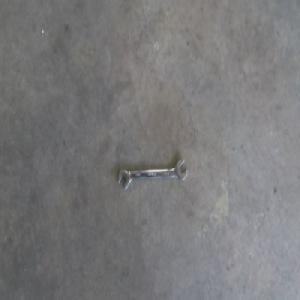Wrench: (118, 159, 187, 189)
